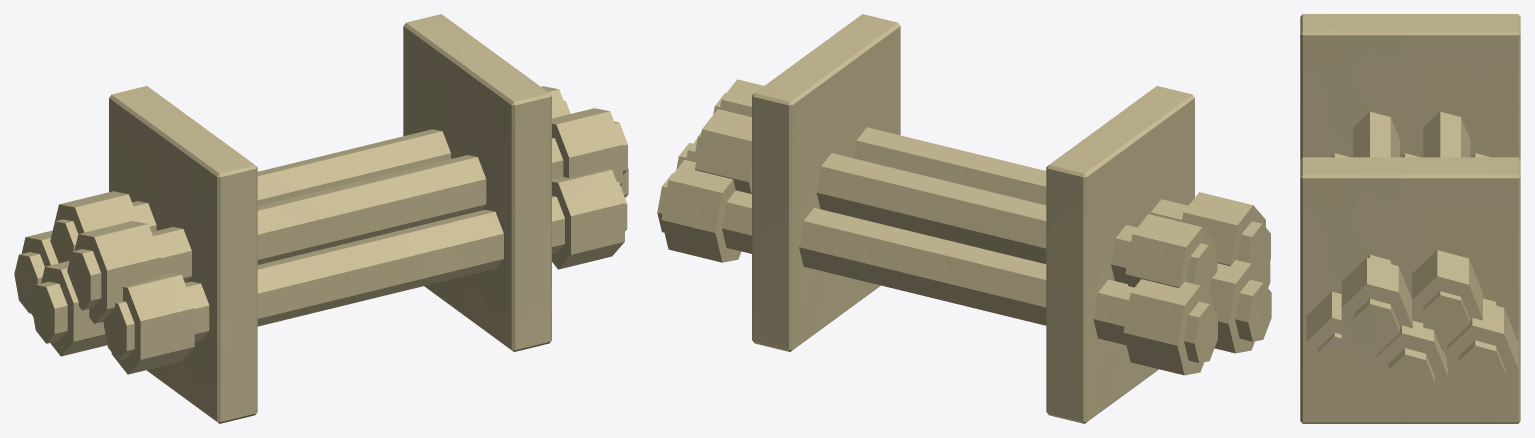
File: WarrensC_WVC052_BoneBundle_Mars_SM.fbx
The picture shows the model from 3 angles, left to right: view 1: azimuth 30°, elevation 25°; view 2: azimuth 150°, elevation 25°; view 3: azimuth 270°, elevation 25°; orthographic projection.
Visible parts, largest first — view 1: WarrensC_WVC052_BoneBundle_Mars_SM.001; view 2: WarrensC_WVC052_BoneBundle_Mars_SM.001; view 3: WarrensC_WVC052_BoneBundle_Mars_SM.001.
Part boxes in pixels (x1,y1,x2,y2): WarrensC_WVC052_BoneBundle_Mars_SM.001: (14, 14, 628, 423); WarrensC_WVC052_BoneBundle_Mars_SM.001: (657, 14, 1271, 423); WarrensC_WVC052_BoneBundle_Mars_SM.001: (1300, 14, 1520, 423).
Bounding box in the file's own units: 120 × 40 × 50.
